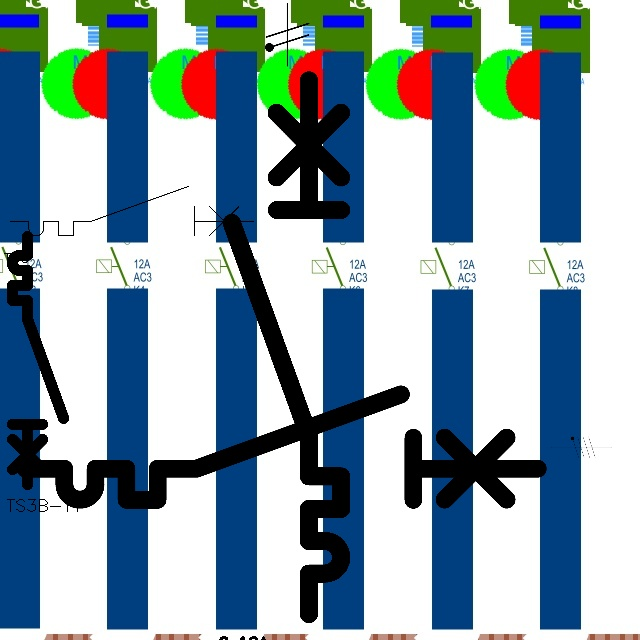interruptor_termomagnetico: (218, 66, 355, 627), (12, 381, 551, 513), (6, 230, 70, 491), (4, 180, 260, 242)
